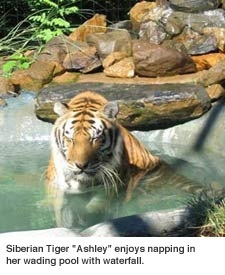tigre: (47, 92, 154, 226)
